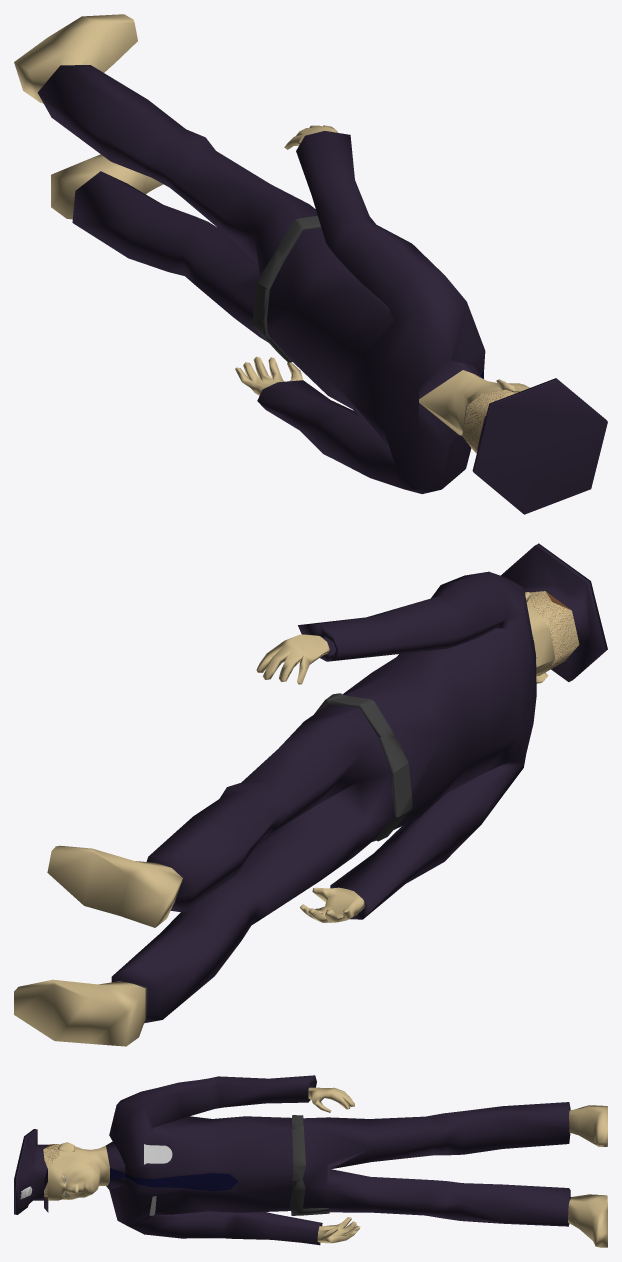
Rendered from policeman.dae.
3 renders of one model, top to bottom at view 1: azimuth 30°, elevation 25°; view 2: azimuth 150°, elevation 25°; view 3: azimuth 270°, elevation 25°, orthographic. The views are drawn at different scales.
Parts seen in each view (by area): view 1: coords_ME_ID19_MA_Color_J24, coords_ME_ID59_MA_Color_J24, coords_ME_ID41_MA_Color_J24, coords_ME_ID65_MA_Shape_004, coords_ME_ID35_MA_Shape_004, coords_ME_ID3_MA_Shape_004, coords_ME_ID47_MA_Color_007, coords_ME_ID91_MA_Shape_004, coords_ME_ID131_MA_Shape_004; view 2: coords_ME_ID19_MA_Color_J24, coords_ME_ID59_MA_Color_J24, coords_ME_ID35_MA_Shape_004, coords_ME_ID65_MA_Shape_004, coords_ME_ID41_MA_Color_J24, coords_ME_ID47_MA_Color_007, coords_ME_ID53_MA_Shape_004, coords_ME_ID131_MA_Shape_004, coords_ME_ID91_MA_Shape_004, coords_ME_ID97_MA_Shape_004; view 3: coords_ME_ID19_MA_Color_J24, coords_ME_ID59_MA_Color_J24, coords_ME_ID3_MA_Shape_004, coords_ME_ID41_MA_Color_J24, coords_ME_ID35_MA_Shape_004, coords_ME_ID115_MA_Color_I22, coords_ME_ID65_MA_Shape_004, coords_ME_ID27_MA_Color_007, coords_ME_ID91_MA_Shape_004, coords_ME_ID53_MA_Shape_004, coords_ME_ID145_MA_Color_001, coords_ME_ID71_MA_Color_007 (+1 smaller).
Part boxes in pixels (x1,y1,x2,y2): coords_ME_ID19_MA_Color_J24: [257, 131, 485, 494]; coords_ME_ID59_MA_Color_J24: [37, 65, 317, 341]; coords_ME_ID41_MA_Color_J24: [472, 378, 607, 514]; coords_ME_ID65_MA_Shape_004: [14, 14, 137, 103]; coords_ME_ID35_MA_Shape_004: [51, 154, 163, 219]; coords_ME_ID3_MA_Shape_004: [419, 370, 529, 435]; coords_ME_ID47_MA_Color_007: [252, 215, 321, 342]; coords_ME_ID91_MA_Shape_004: [235, 356, 302, 395]; coords_ME_ID131_MA_Shape_004: [462, 389, 517, 453]; coords_ME_ID19_MA_Color_J24: [298, 571, 536, 919]; coords_ME_ID59_MA_Color_J24: [111, 704, 394, 1023]; coords_ME_ID35_MA_Shape_004: [14, 979, 145, 1046]; coords_ME_ID65_MA_Shape_004: [47, 845, 182, 927]; coords_ME_ID41_MA_Color_J24: [501, 543, 607, 681]; coords_ME_ID47_MA_Color_007: [329, 696, 412, 818]; coords_ME_ID53_MA_Shape_004: [256, 634, 329, 684]; coords_ME_ID131_MA_Shape_004: [529, 591, 579, 674]; coords_ME_ID91_MA_Shape_004: [300, 887, 364, 922]; coords_ME_ID97_MA_Shape_004: [526, 600, 555, 675]; coords_ME_ID19_MA_Color_J24: [106, 1075, 322, 1245]; coords_ME_ID59_MA_Color_J24: [302, 1102, 570, 1226]; coords_ME_ID3_MA_Shape_004: [47, 1142, 109, 1200]; coords_ME_ID41_MA_Color_J24: [14, 1129, 49, 1214]; coords_ME_ID35_MA_Shape_004: [568, 1194, 607, 1247]; coords_ME_ID115_MA_Color_I22: [125, 1173, 238, 1191]; coords_ME_ID65_MA_Shape_004: [569, 1105, 607, 1146]; coords_ME_ID27_MA_Color_007: [290, 1158, 329, 1215]; coords_ME_ID91_MA_Shape_004: [317, 1217, 360, 1243]; coords_ME_ID53_MA_Shape_004: [308, 1087, 354, 1112]; coords_ME_ID145_MA_Color_001: [144, 1144, 172, 1164]; coords_ME_ID71_MA_Color_007: [292, 1124, 305, 1163].
Size of the model in its own units: 3.73 by 6.39 by 19.4.
